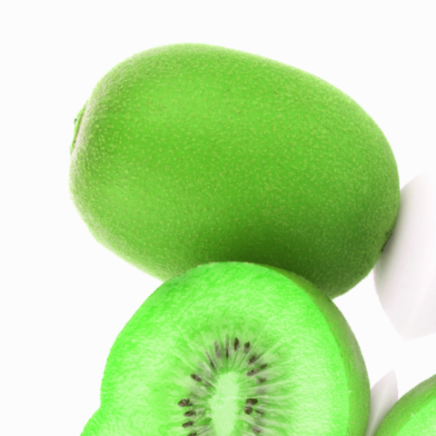kiwi: (5, 0, 436, 403)
